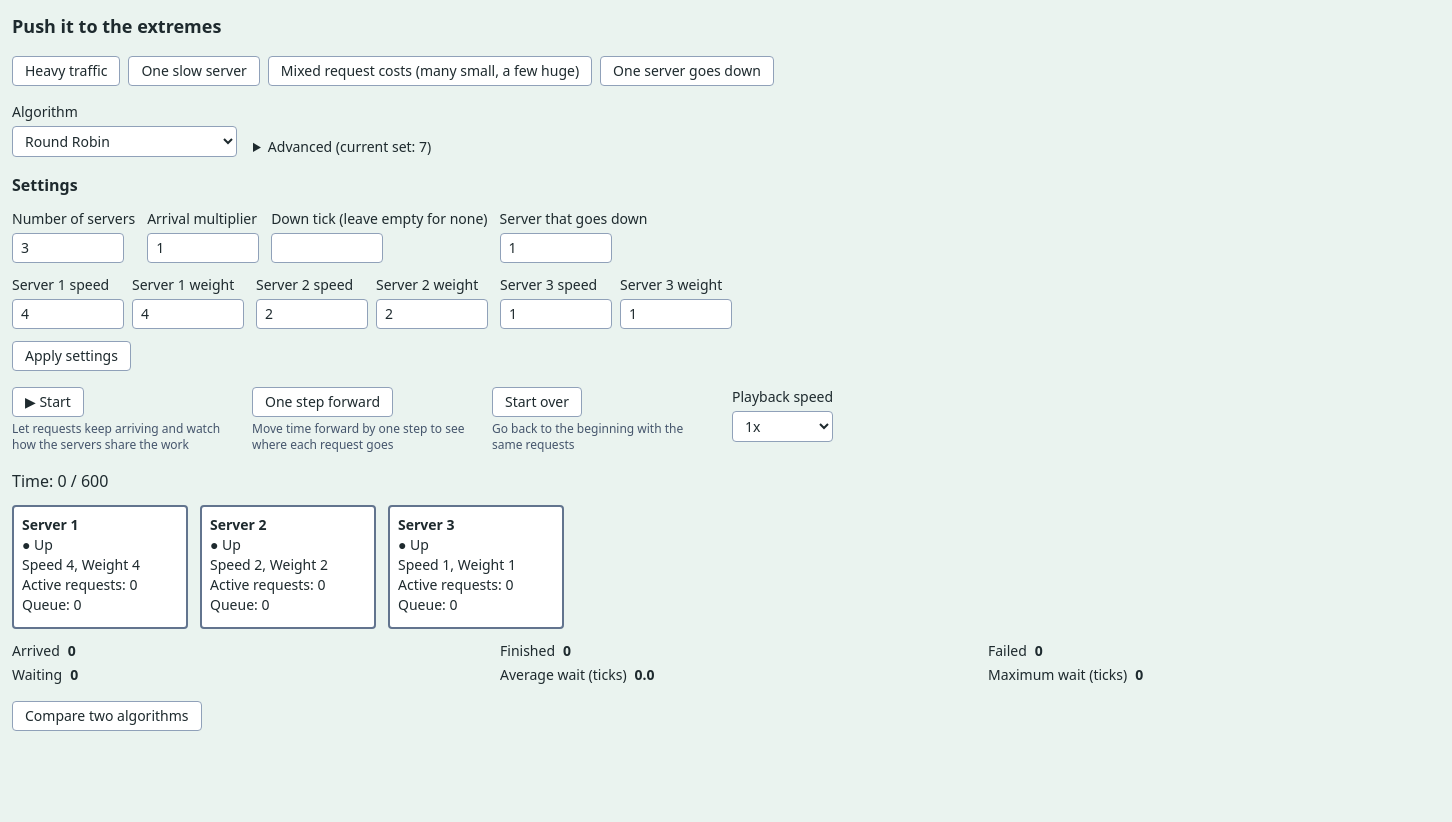
ExtremeCasesPanel › T4: One slow server lowers one speed and the controls stay editable
Click the button "One slow server". click: (194, 71)
box: [128,56,260,86]
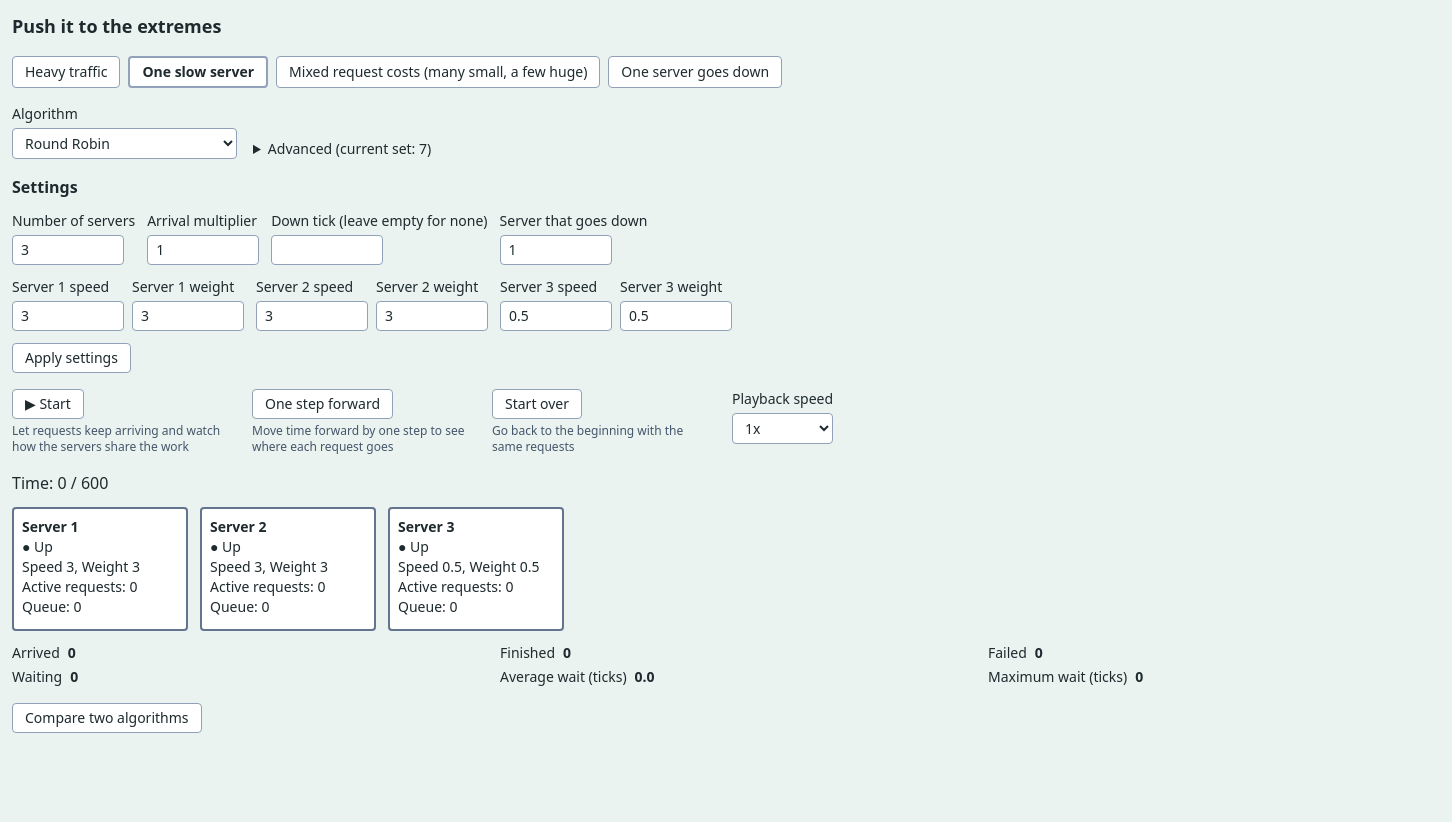
Expected: the number field labelled "Server 3 speed" holds "0.5"
Expected: the number field labelled "Server 1 speed" holds "3", [12,301,124,331]
Replace the text in the number field labelled "Server 3 speed" with "1.5". click: (556, 316)
box: [500,301,612,331]
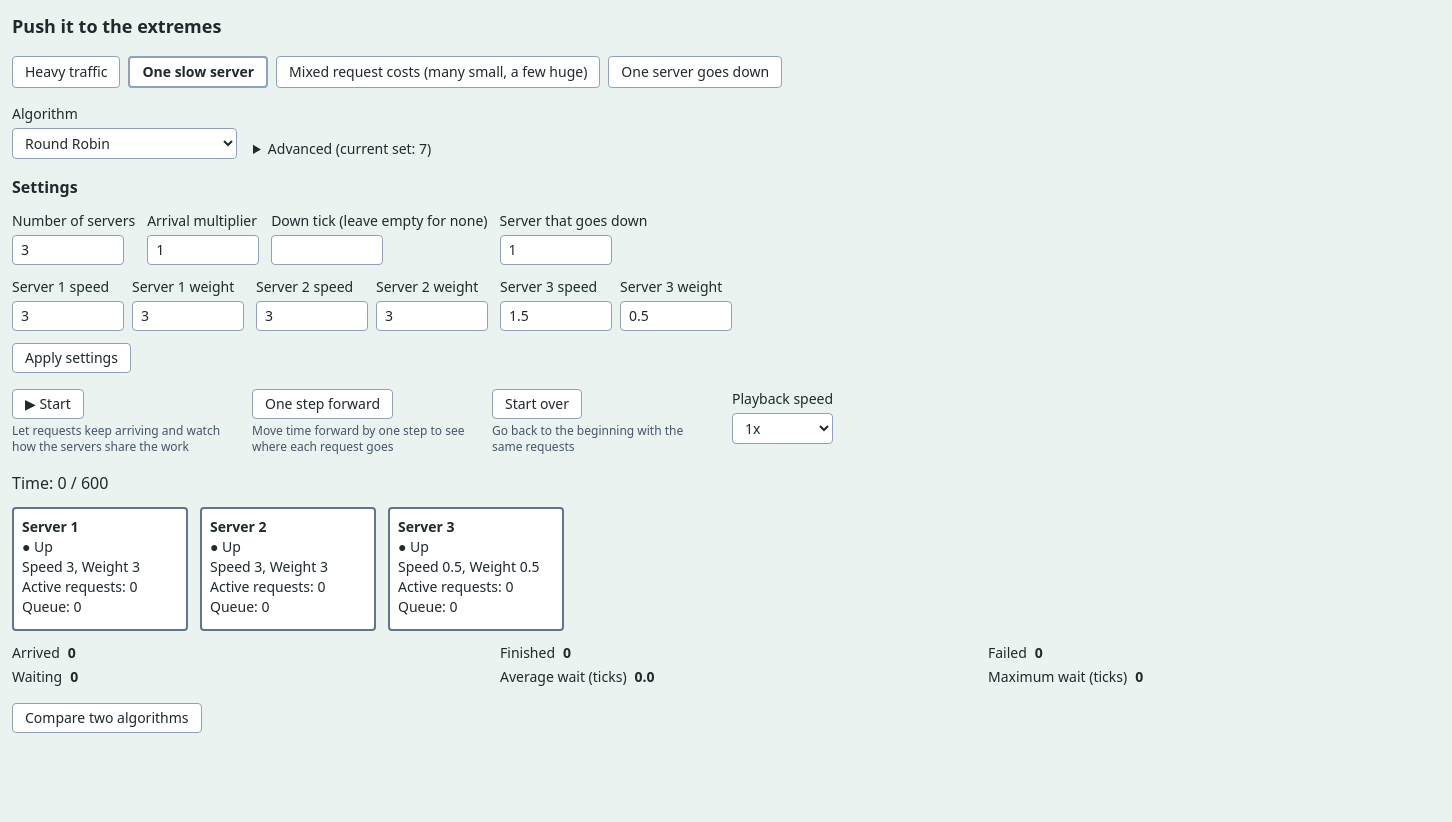
Replace the text in the number field labelled "Arrival multiplier" with "2". click: (203, 250)
box: [147,235,259,265]
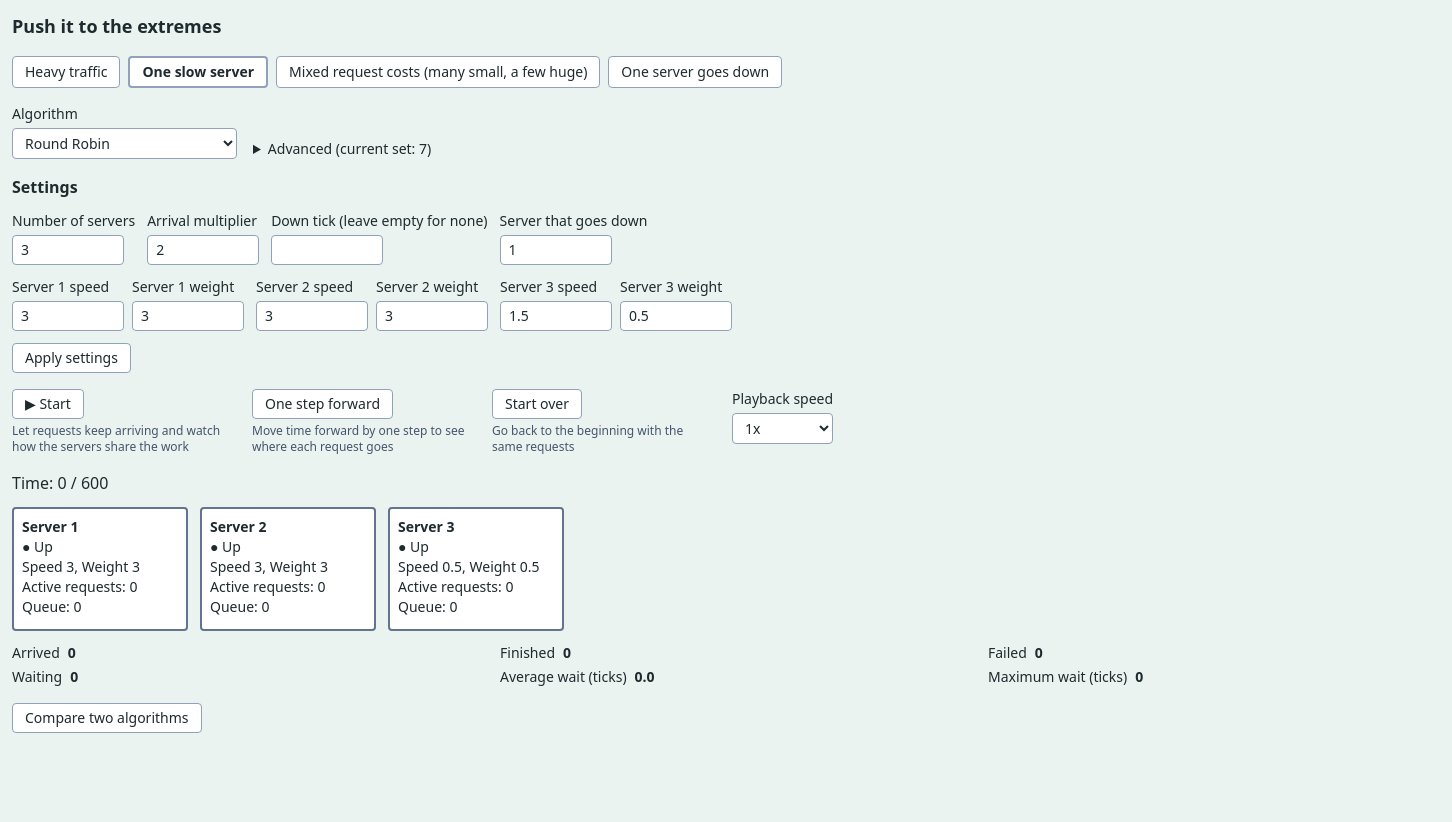
Click the button "Apply settings". click: (71, 358)
box: [12,343,131,373]
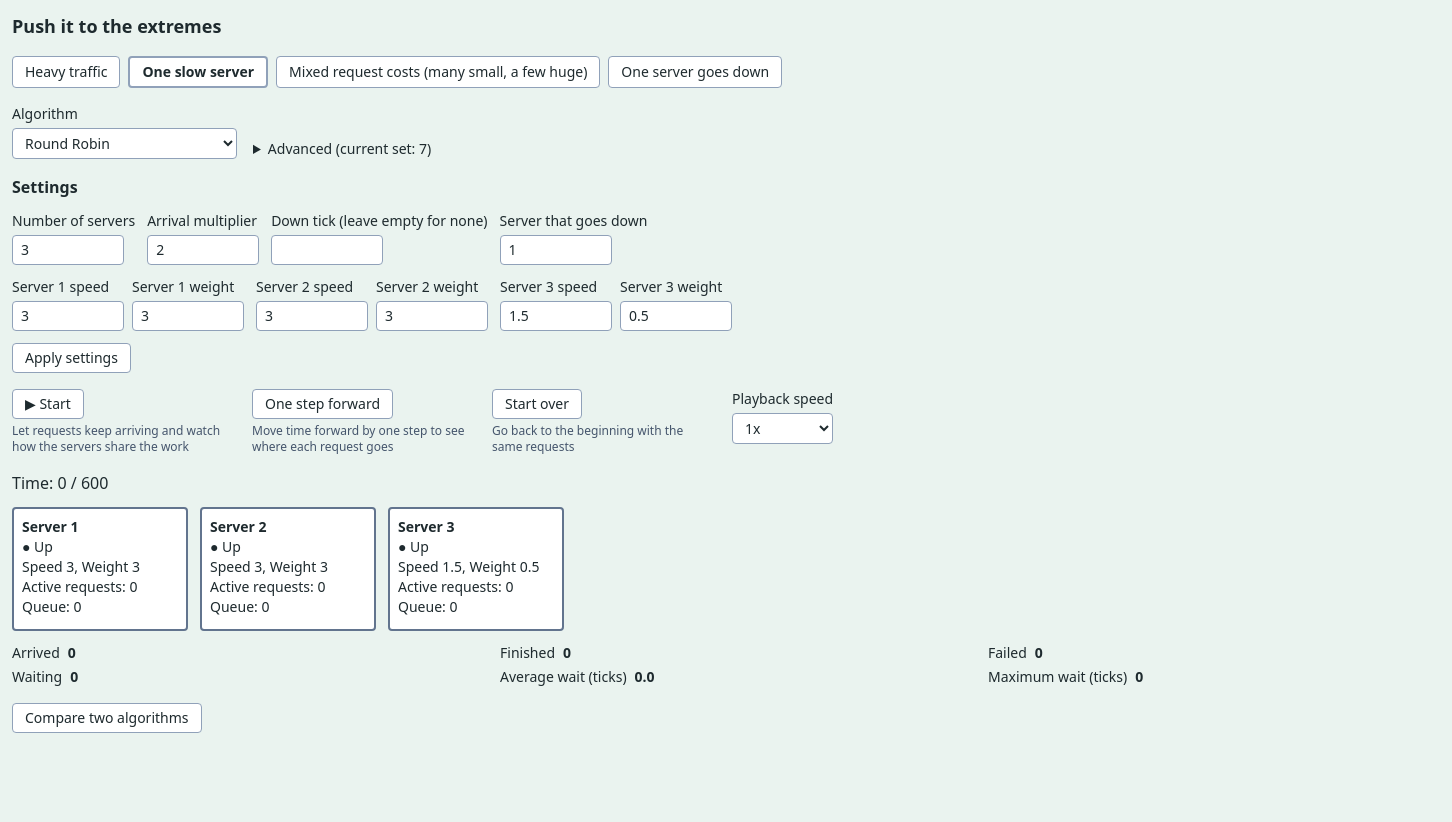
Expected: the text "Speed 1.5, Weight 0.5" is shown, [398,557,554,577]
